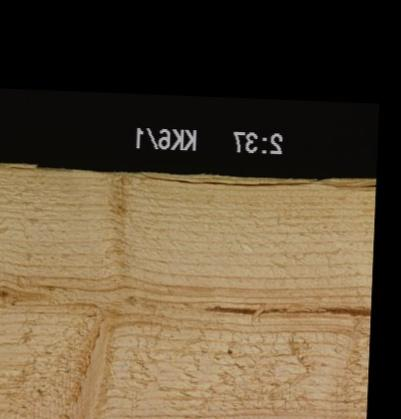split: (135, 175, 374, 190)
